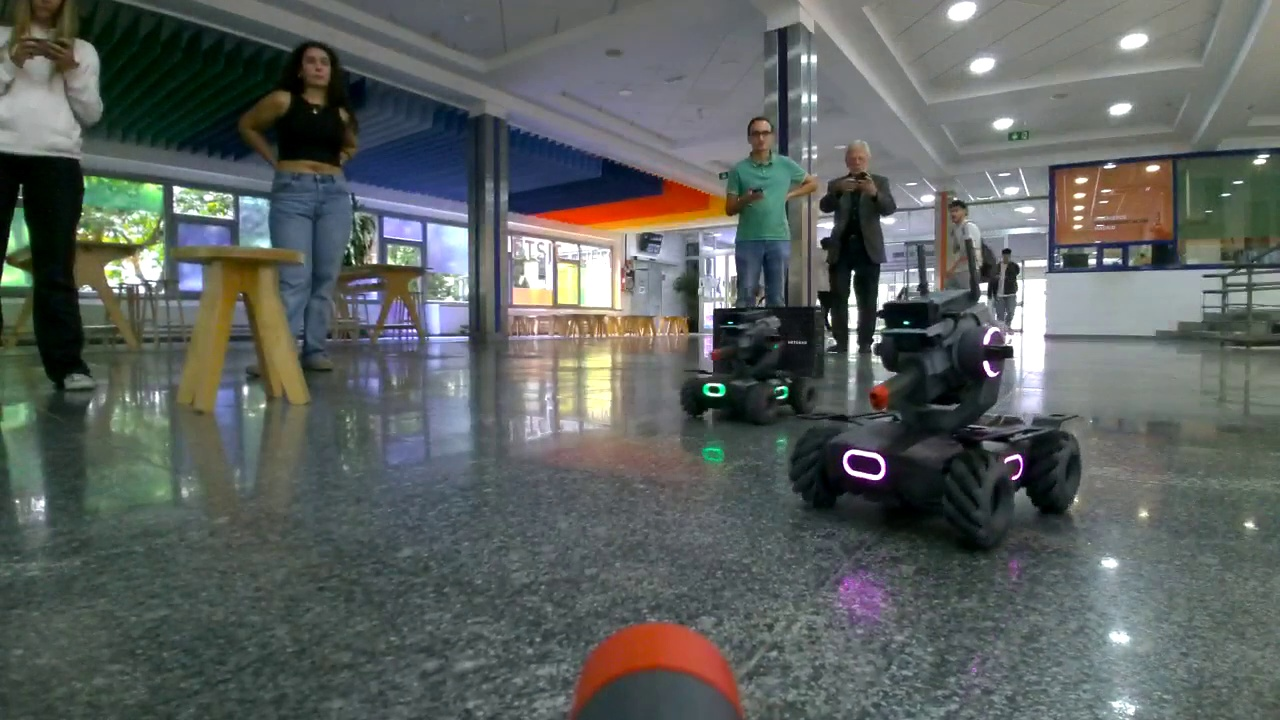robot: (790, 290, 1085, 559), (686, 310, 814, 430)
